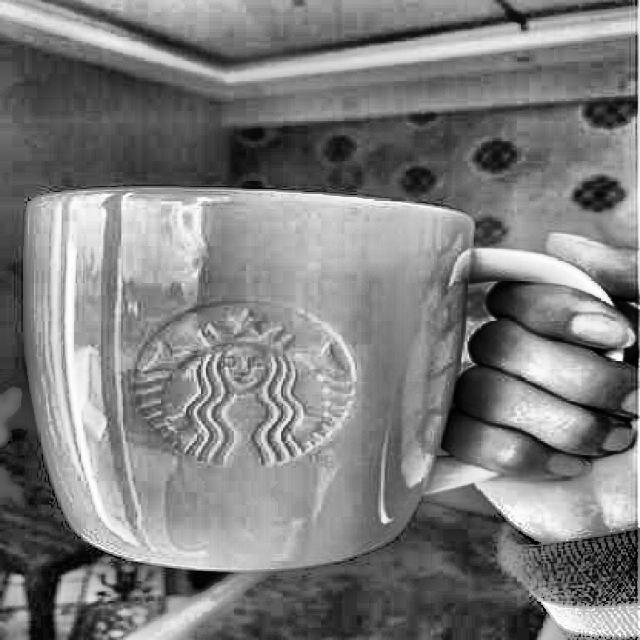Mug: (20, 185, 625, 573)
